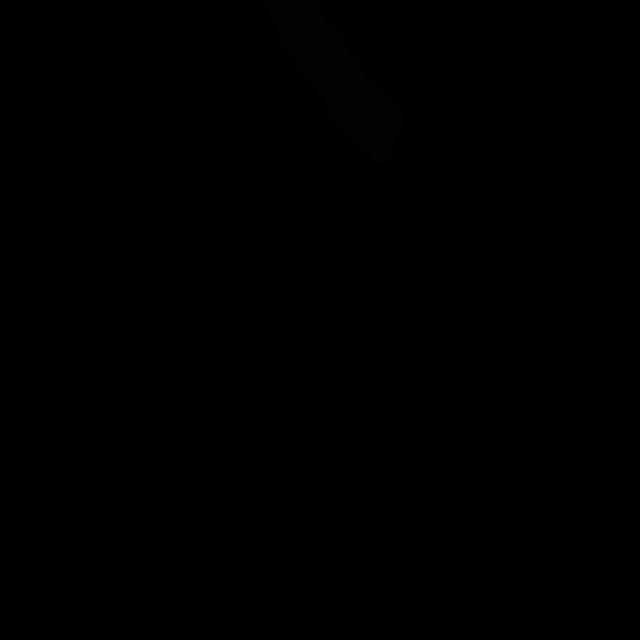cardboard: (265, 0, 406, 165)
